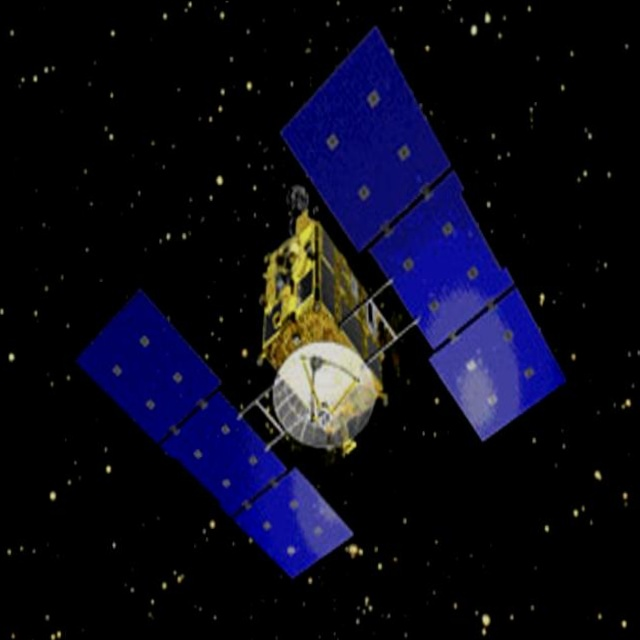satellite: (65, 26, 570, 592)
